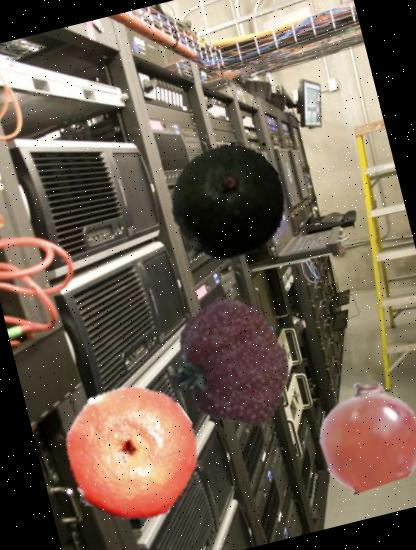Avocado: (152, 130, 300, 278)
Clementine: (46, 371, 214, 538)
Nut: (193, 352, 273, 432)
Redcurrant: (306, 370, 416, 497)
Strawberry: (152, 286, 314, 448)
